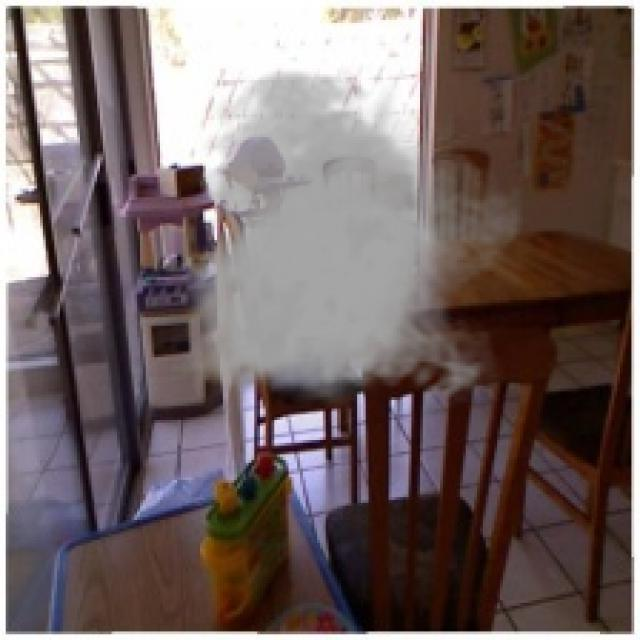Smoke: (171, 66, 523, 408)
